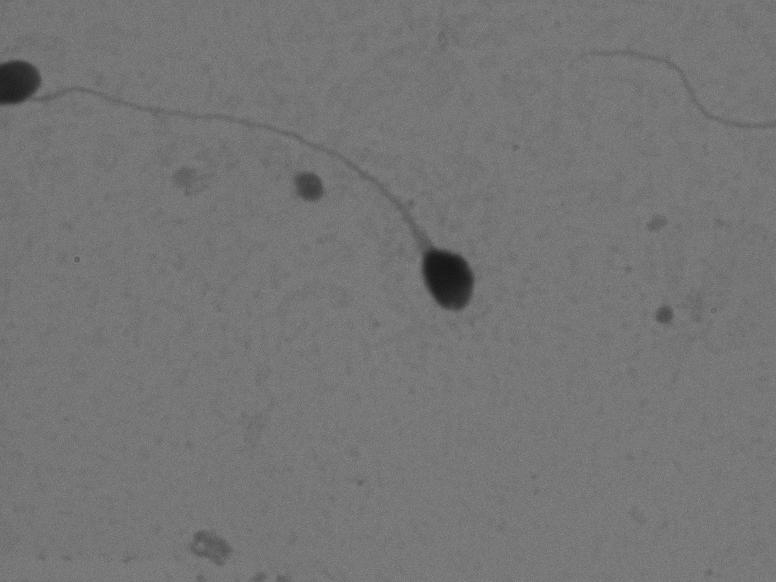Abnormal: (40, 62, 505, 334)
